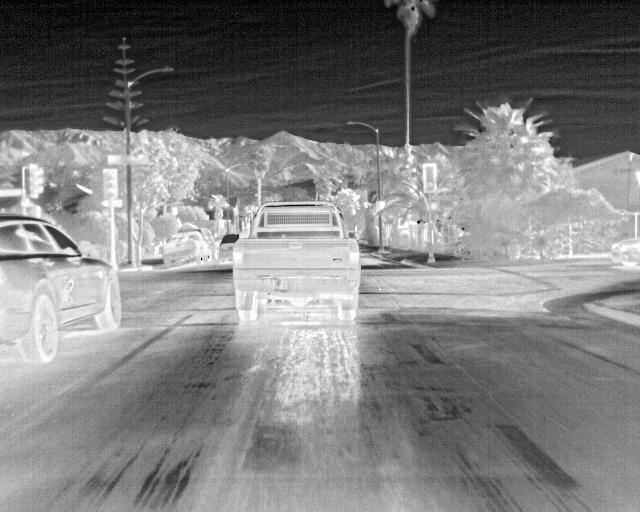car: (0, 216, 124, 366), (233, 200, 363, 325), (158, 230, 211, 267), (610, 238, 639, 270), (217, 233, 235, 262)
